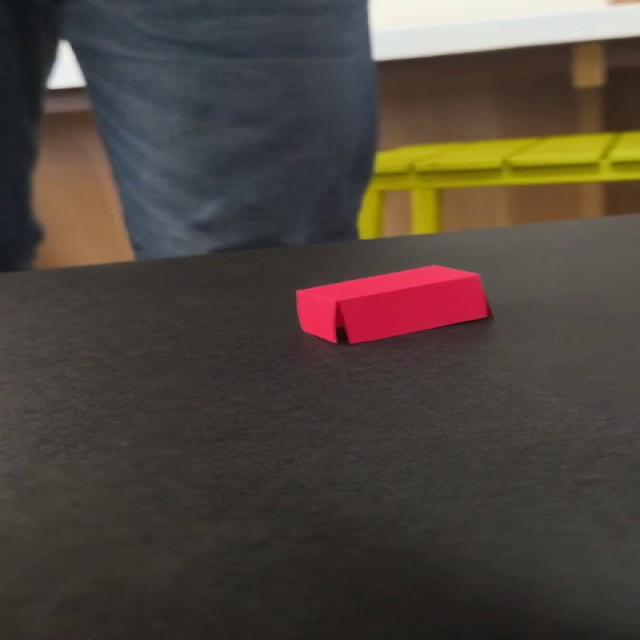red block: (293, 264, 491, 344)
